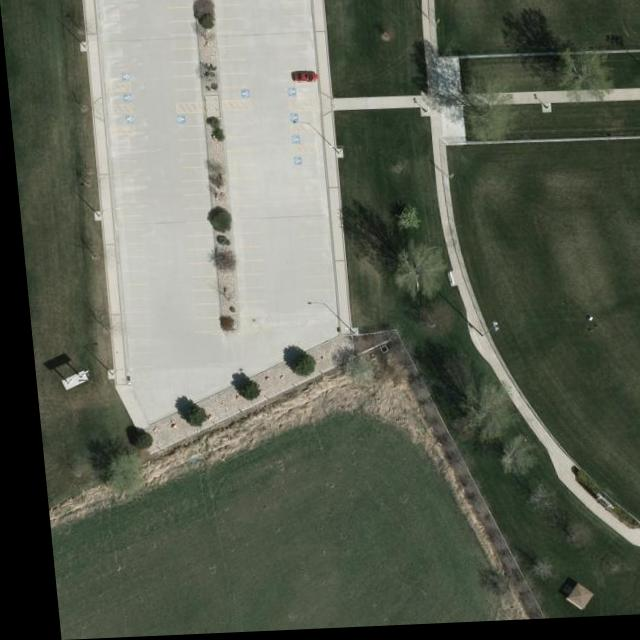vehicle: (292, 75, 318, 86)
